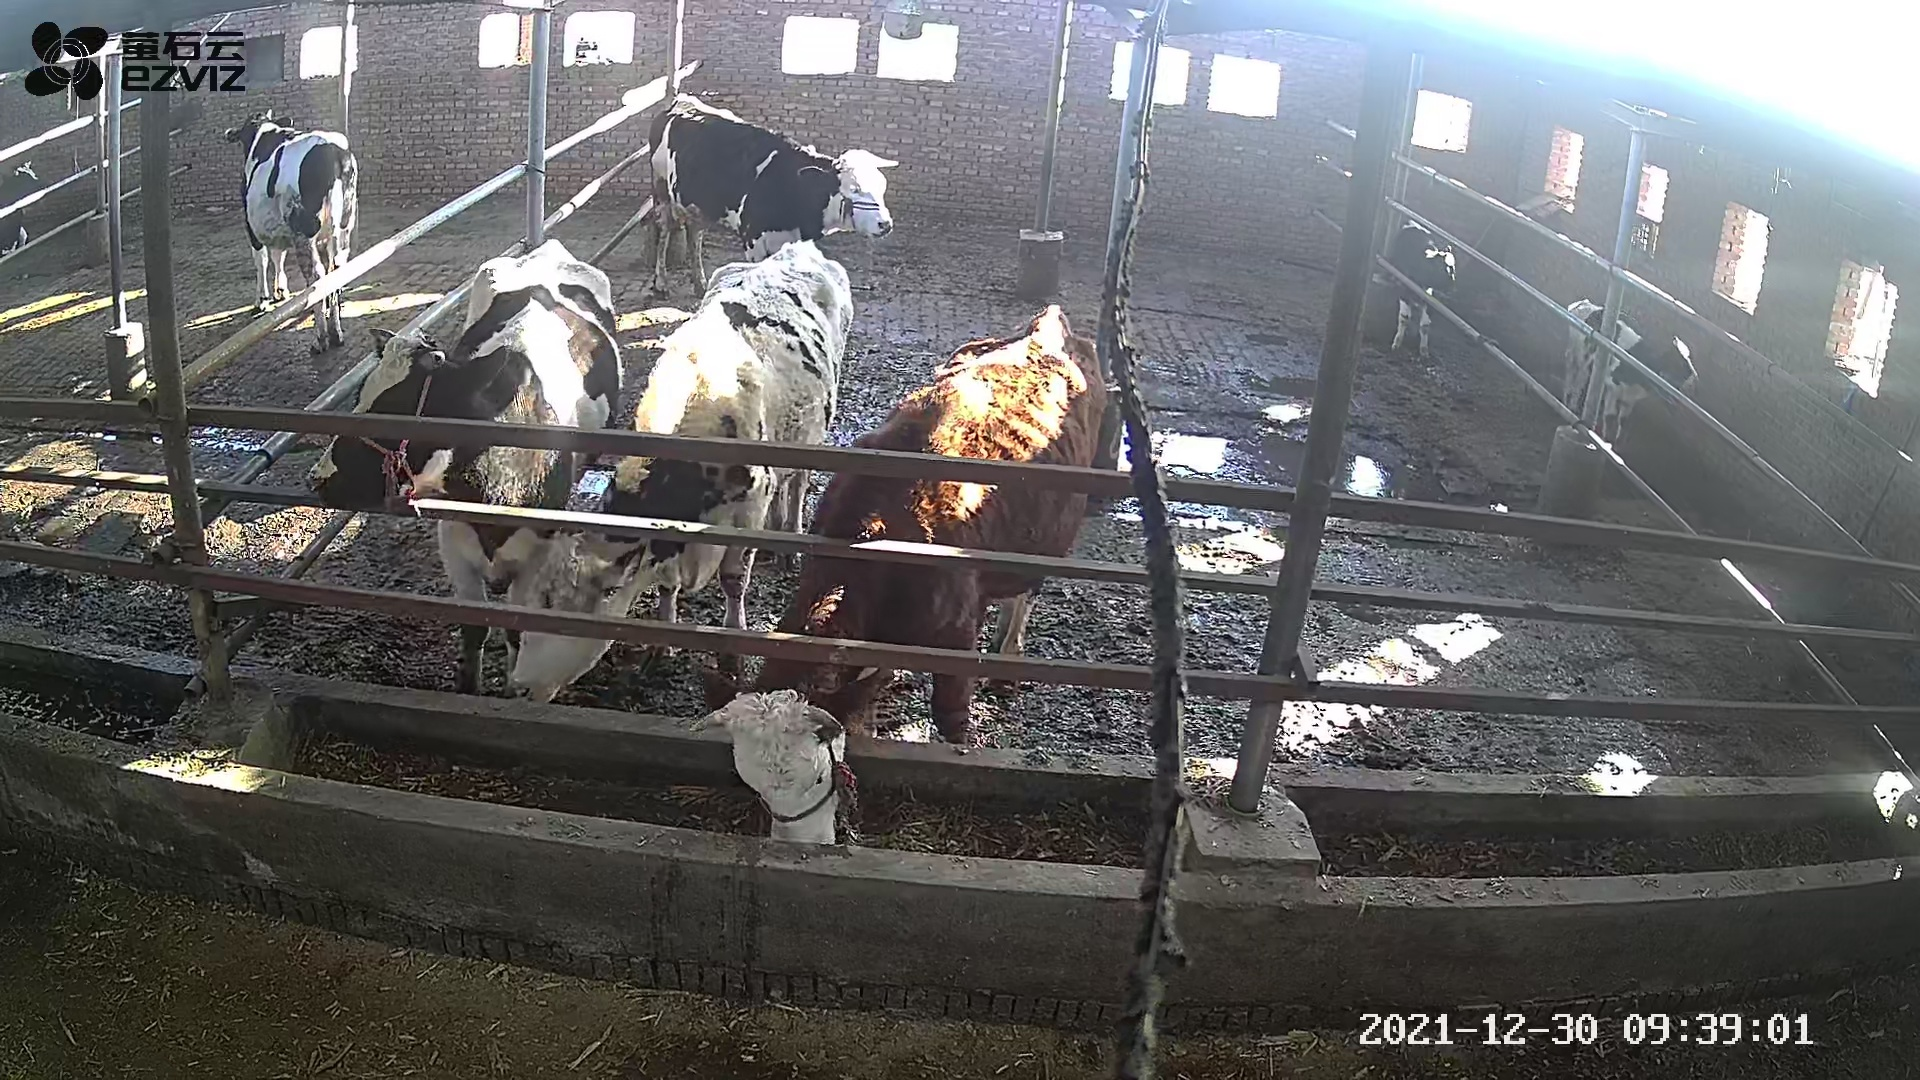cow: (688, 303, 1108, 847), (512, 237, 856, 702), (303, 236, 622, 698), (647, 90, 901, 297)
